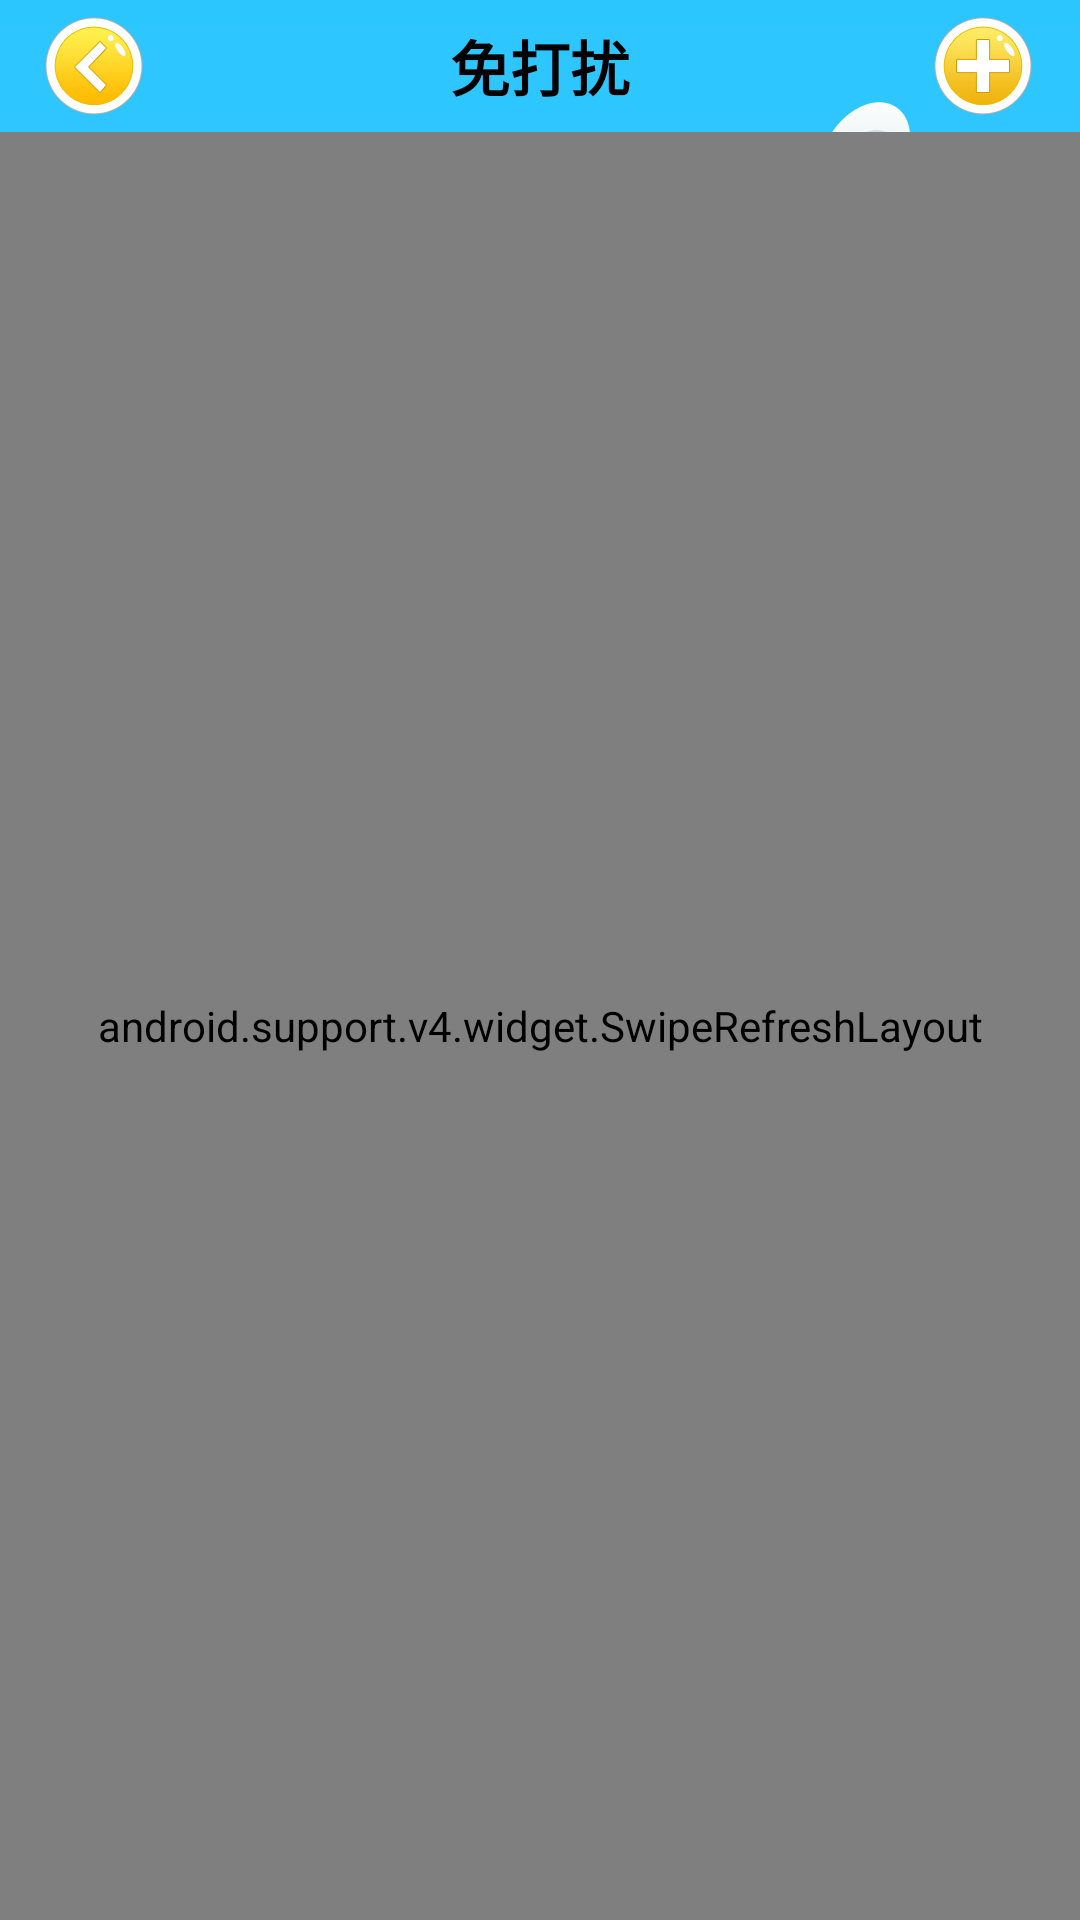

Icons on this 1080 × 1920 Android screen, each with its box as {"x1": x1, "y1": y1, "x2": x2, "y2": y2}:
add device: {"x1": 934, "y1": 17, "x2": 1032, "y2": 115}
back: {"x1": 45, "y1": 17, "x2": 143, "y2": 115}
